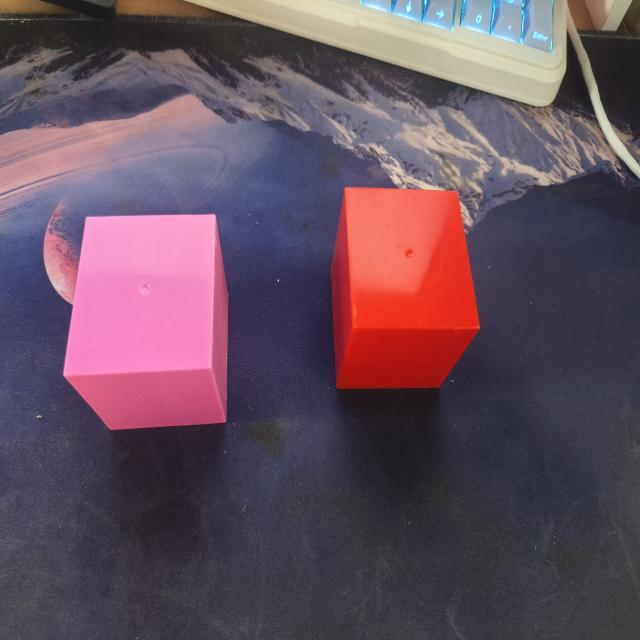pink: (55, 209, 232, 438)
red: (326, 182, 488, 395)
